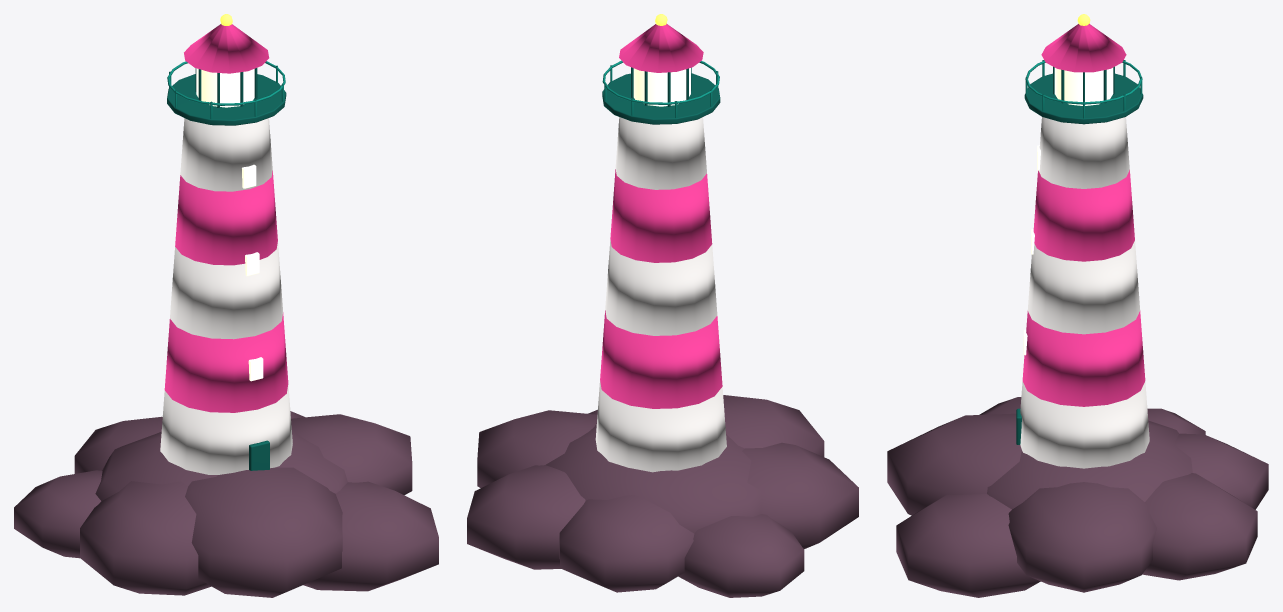
Rendered from lighthouse.glb.
3 renders of one model, left to right at view 1: azimuth 30°, elevation 25°; view 2: azimuth 150°, elevation 25°; view 3: azimuth 270°, elevation 25°, orthographic.
Parts seen in each view (by area): view 1: Lighthouse; view 2: Lighthouse; view 3: Lighthouse.
Part boxes in pixels (box(x1,y1,x2,y2)): Lighthouse: box(14, 14, 438, 597); Lighthouse: box(467, 14, 858, 597); Lighthouse: box(887, 14, 1268, 597).
Size of the model in its own units: 21.51 by 32 by 20.61.
